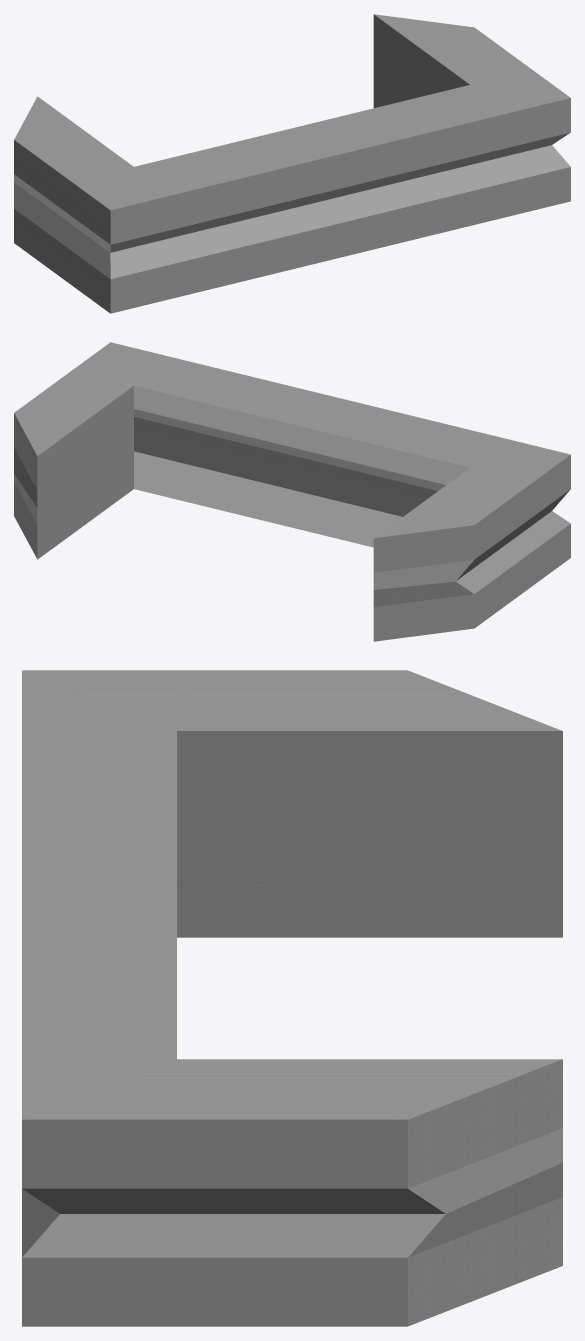
The model's file is SM_JointPillard.fbx.
3 views of the same model, one above another, from view 1: azimuth 30°, elevation 25°; view 2: azimuth 150°, elevation 25°; view 3: azimuth 270°, elevation 25° (orthographic). The views are drawn at different scales.
Parts seen in each view (by area): view 1: SM_JointPillard; view 2: SM_JointPillard; view 3: SM_JointPillard.
Boxes of the visible parts, <box> form: SM_JointPillard: <box>14,14,570,313</box>; SM_JointPillard: <box>14,342,570,641</box>; SM_JointPillard: <box>22,670,562,1326</box>.
Size of the model in its own units: 69.91 by 15 by 35.55.
